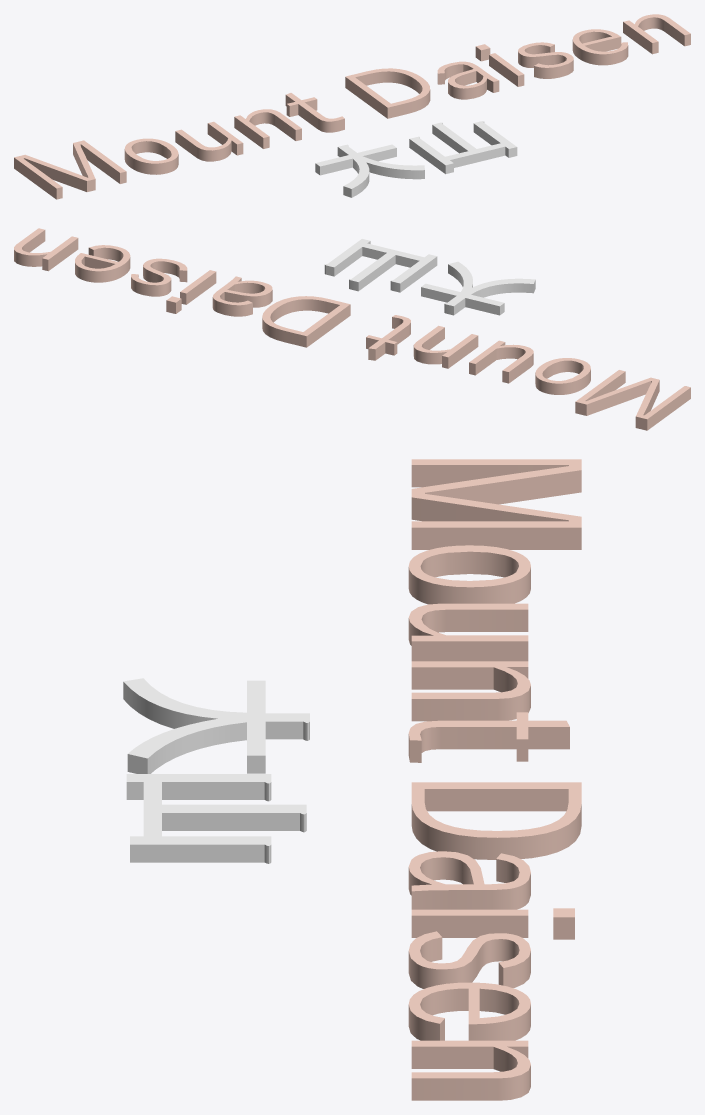
File: ScrittaMonteDaisen.fbx
The picture shows the model from 3 angles, top to bottom: view 1: azimuth 30°, elevation 25°; view 2: azimuth 150°, elevation 25°; view 3: azimuth 270°, elevation 25°; orthographic projection. The views are drawn at different scales.
Parts seen in each view (by area): view 1: MonteDaisen; view 2: MonteDaisen; view 3: MonteDaisen.
Boxes of the visible parts, left/top/right/bottom form: MonteDaisen: left=14, top=14, right=690, bottom=199; MonteDaisen: left=14, top=228, right=690, bottom=430; MonteDaisen: left=123, top=459, right=581, bottom=1100.
Size of the model in its own units: 222 by 3.74 by 69.57.
